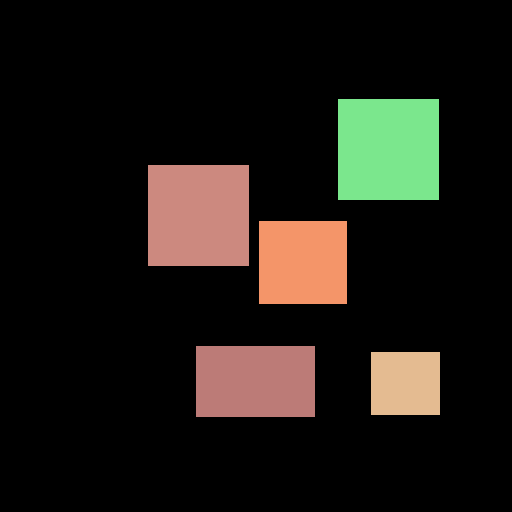rectangle: (196, 346, 314, 416)
square: (148, 165, 248, 265), (338, 99, 438, 199), (259, 221, 346, 303), (371, 352, 439, 414)
